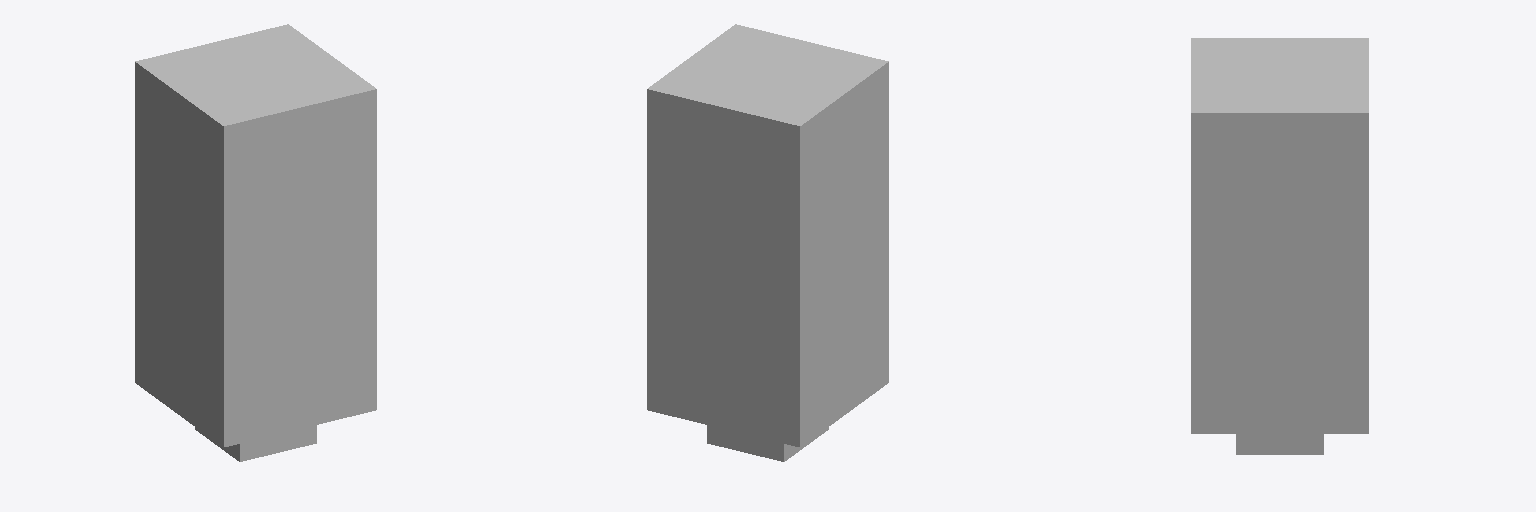
The model's file is bush-1.obj.
The picture shows the model from 3 angles: view 1: azimuth 30°, elevation 25°; view 2: azimuth 150°, elevation 25°; view 3: azimuth 270°, elevation 25°; orthographic projection.
Visible parts, largest first — view 1: object 1; view 2: object 1; view 3: object 1.
Boxes of the visible parts, <box> form: object 1: <box>135,24,376,461</box>; object 1: <box>647,24,888,461</box>; object 1: <box>1191,38,1368,454</box>.
Size of the model in its own units: 0.4 by 0.9 by 0.4.